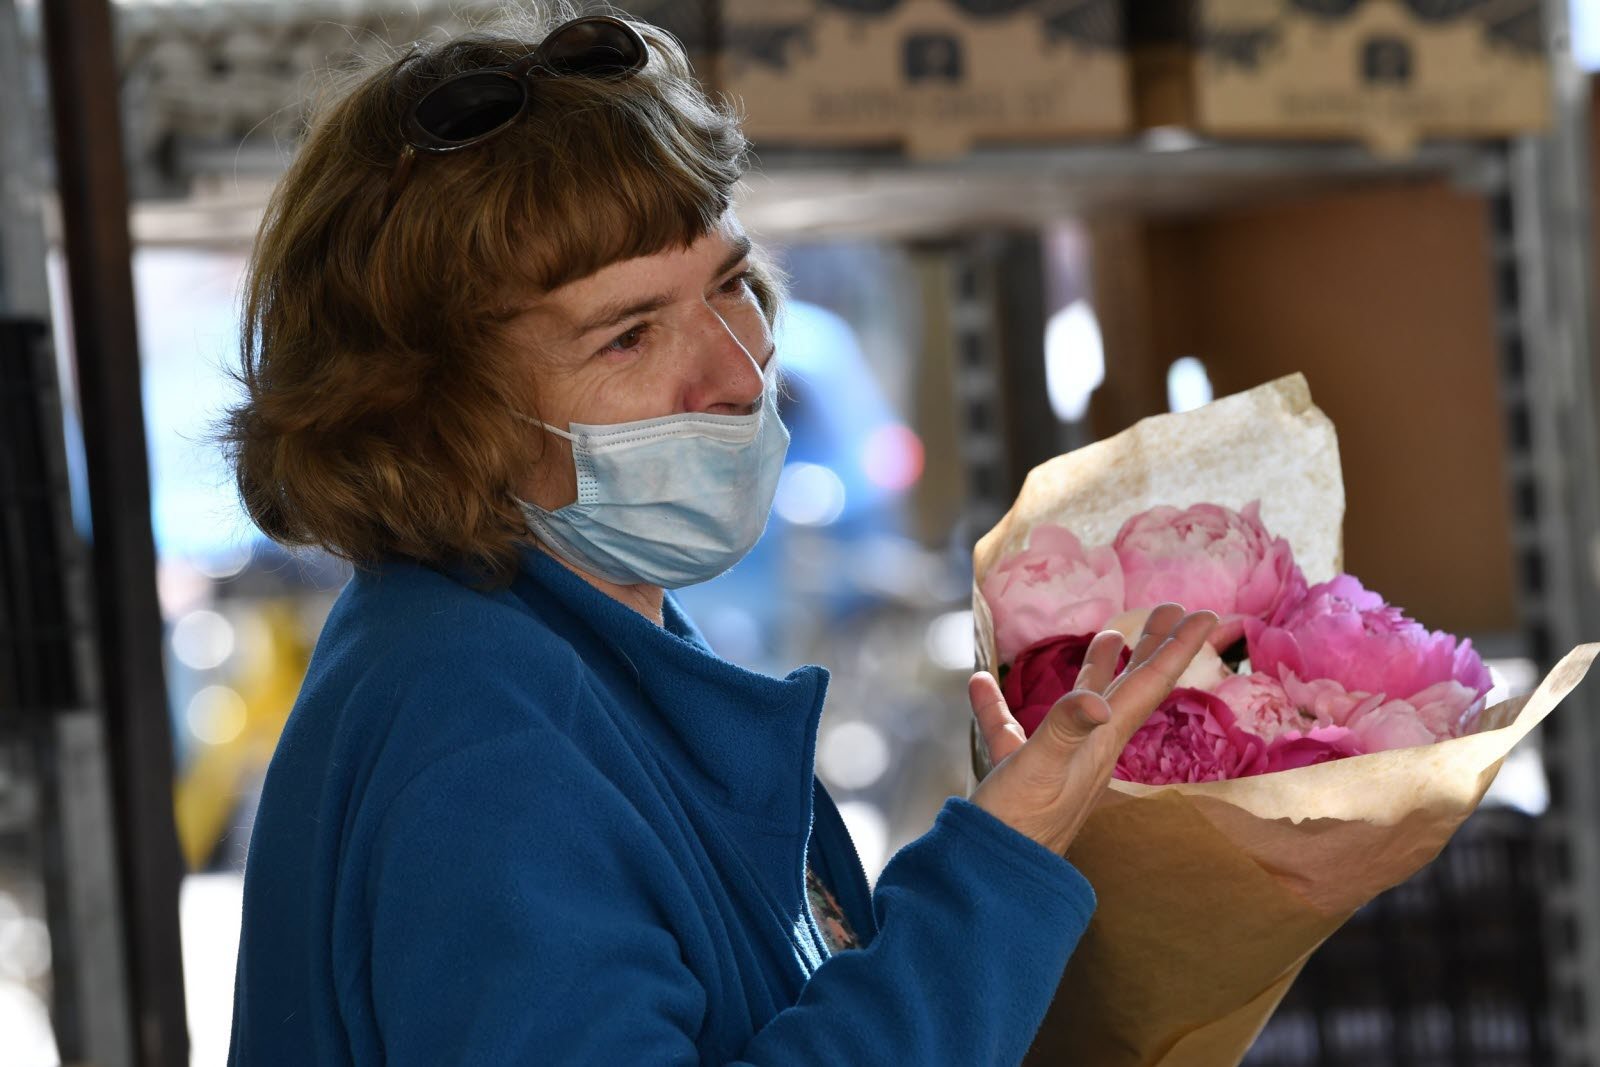with_incorrect_mask: (551, 214, 775, 579)
